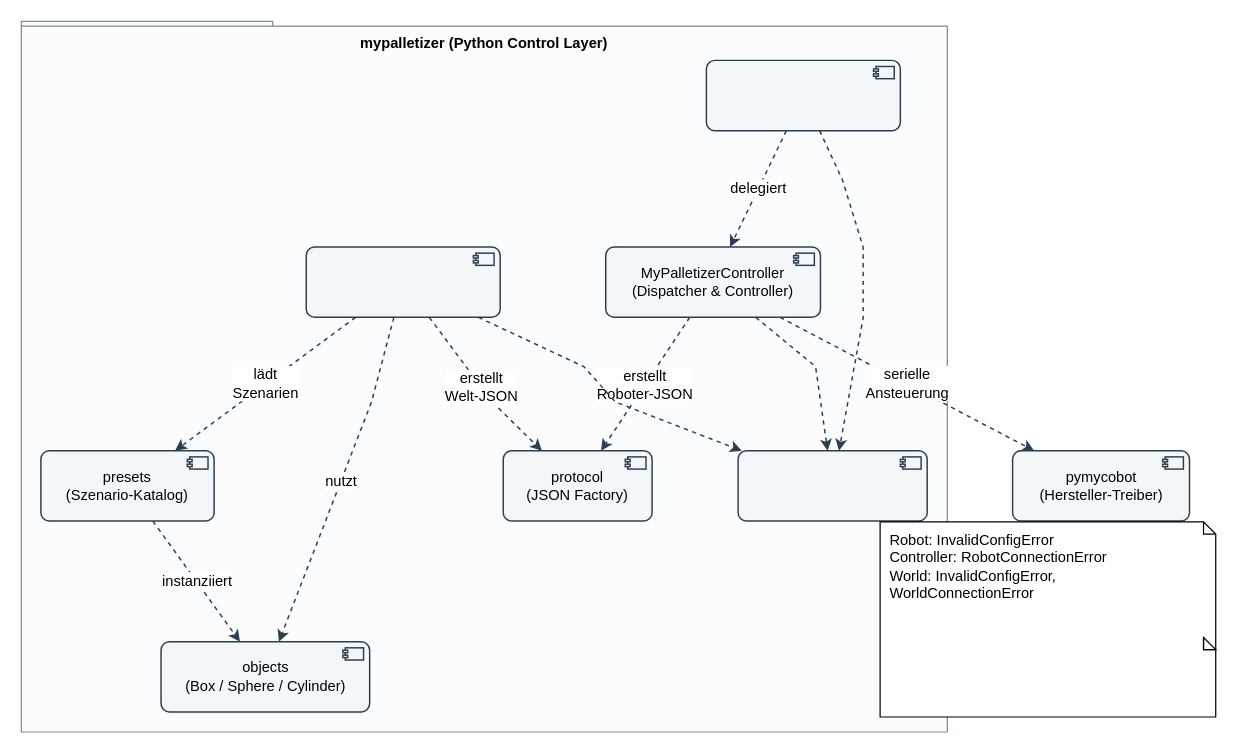
This 1237x754 diagram has some shape labels left out. Here are the shapes that lost their labels. From the top down, the box of each, then its label:
(705, 59, 900, 131): Robot (High-Level Fassade)
(305, 246, 500, 317): World (High-Level Fassade)
(737, 449, 927, 521): errors (Custom Exceptions)
